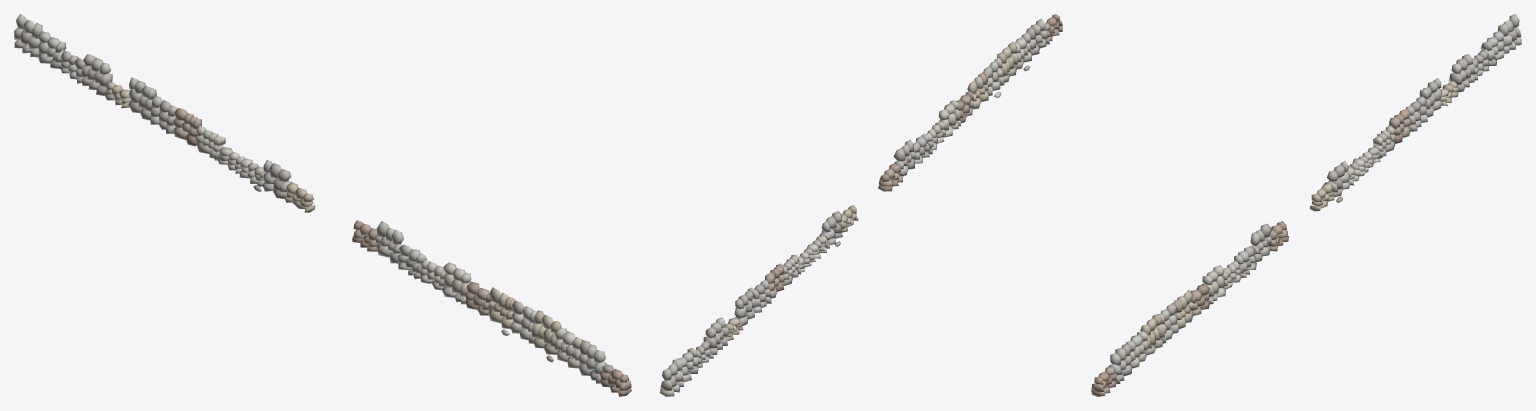
The model's file is farm_15_19_near.glb.
3 views of the same model, side by side, from view 1: azimuth 30°, elevation 25°; view 2: azimuth 150°, elevation 25°; view 3: azimuth 330°, elevation 25° (orthographic). The views are drawn at different scales.
Parts seen in each view (by area): view 1: geometry_0; view 2: geometry_0; view 3: geometry_0.
Boxes of the visible parts, x1,y1,x2,y2 form: geometry_0: [14, 14, 631, 396]; geometry_0: [660, 14, 1062, 396]; geometry_0: [1091, 14, 1521, 396].
Bounding box in the file's own units: 4.07 × 2.34 × 41.84.
